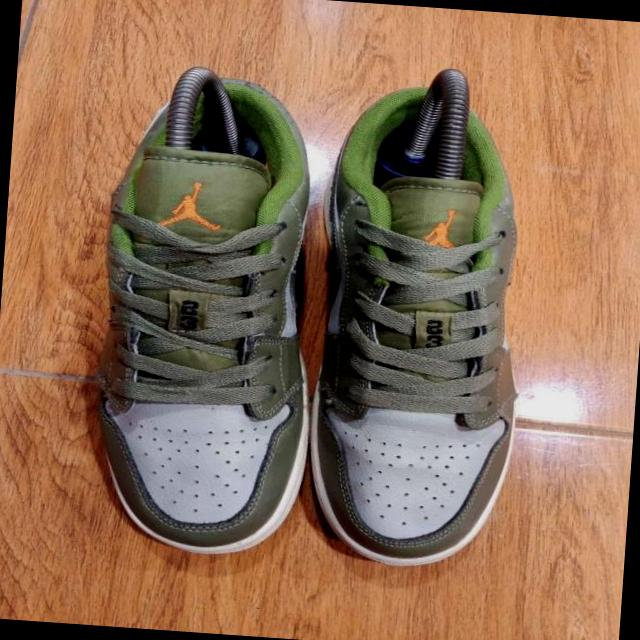nike_original_jordan: (85, 70, 334, 562), (298, 80, 540, 576)
